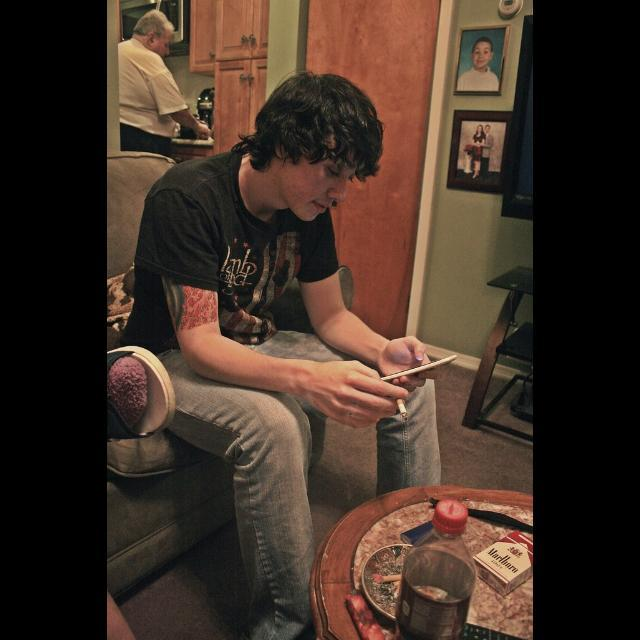rokok: (392, 396, 416, 424)
